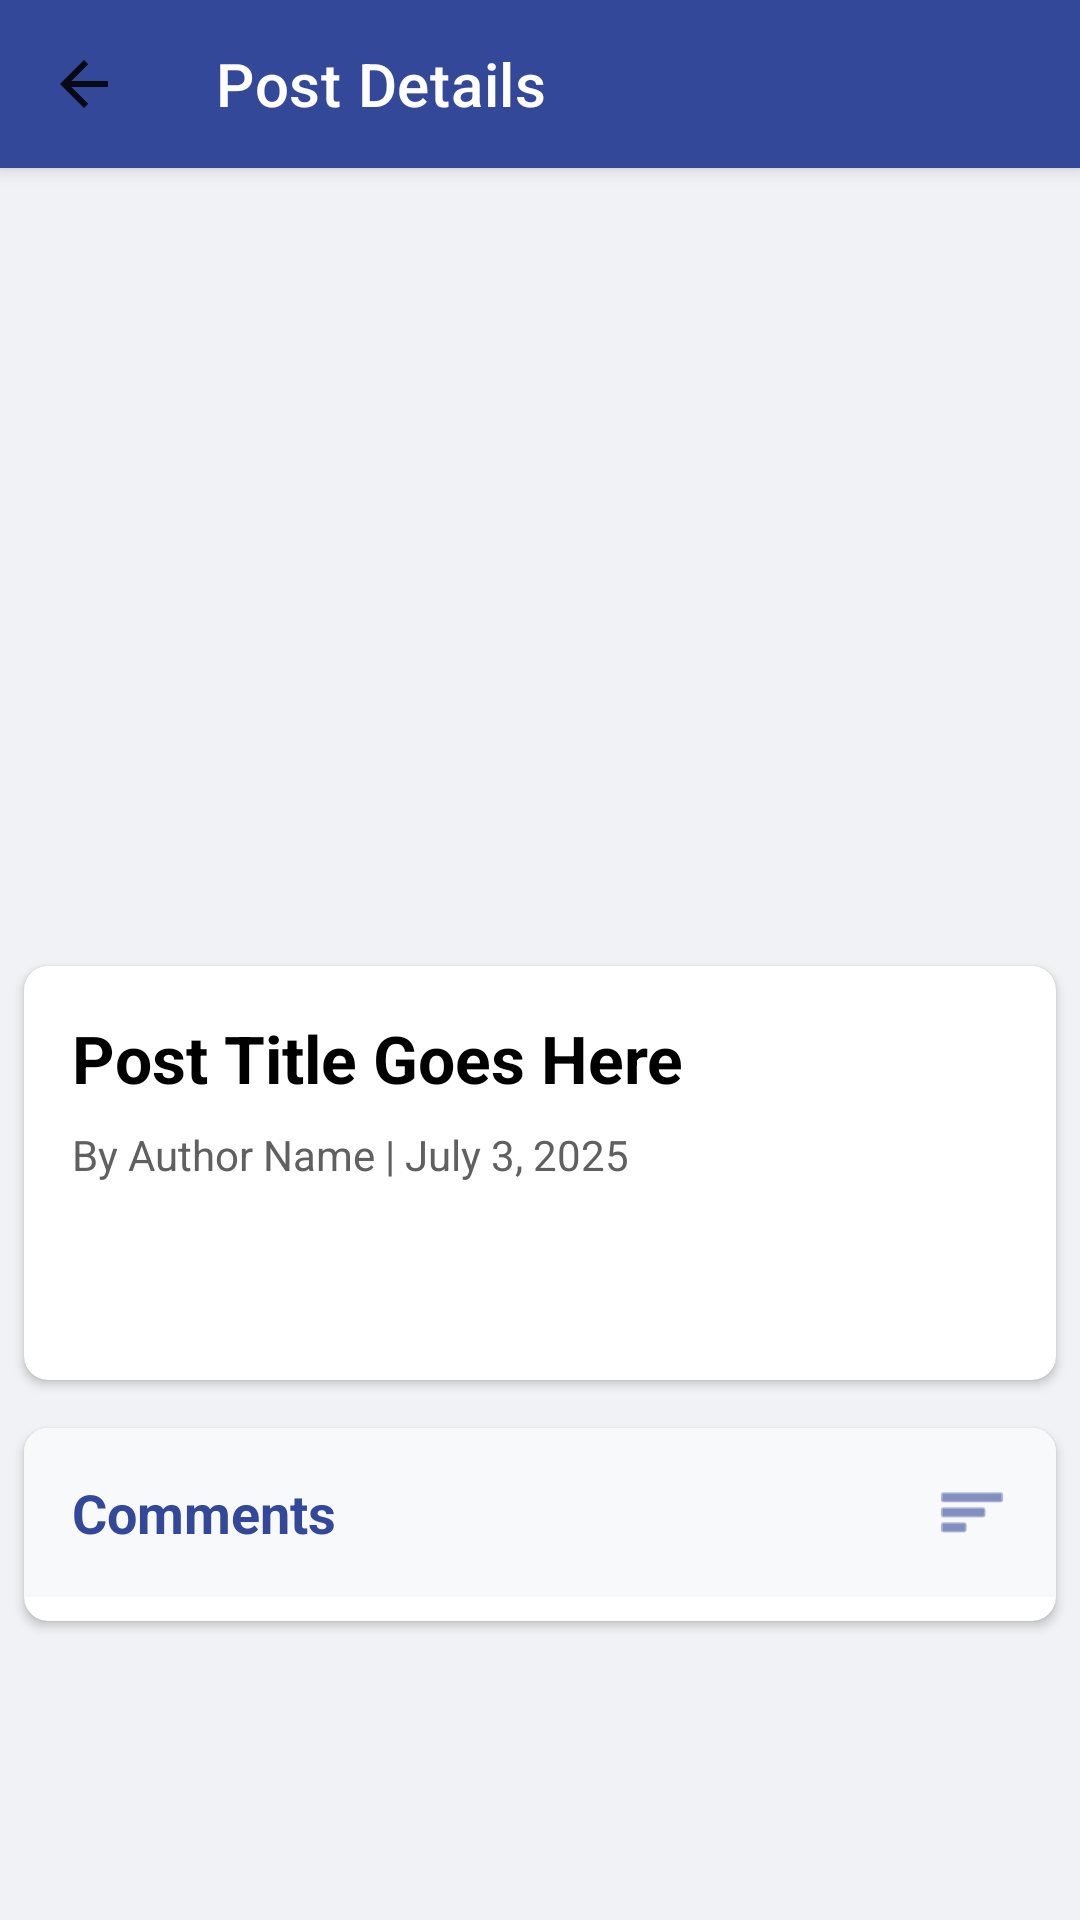

Icons on this 1080*1920 Android screen, each with the point to tap as [x,y]:
sort by size: [972,1512]
